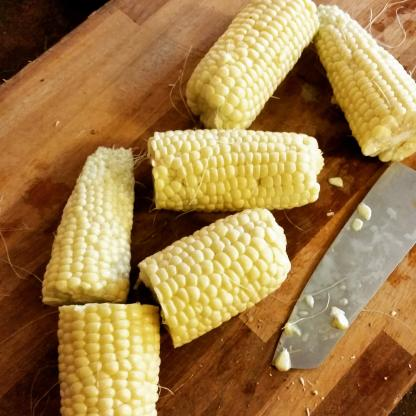---: (142, 203, 293, 365), (178, 0, 327, 137), (308, 1, 416, 166), (40, 146, 146, 312), (144, 127, 332, 214), (56, 298, 174, 416)
